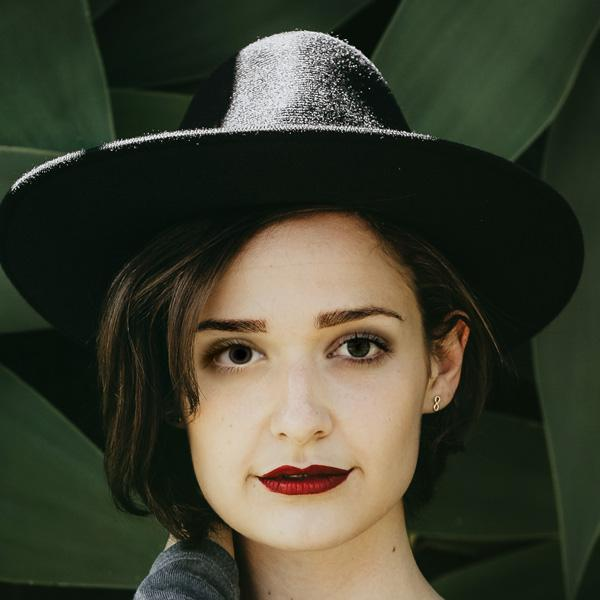Eyes: (315, 325, 401, 374), (192, 328, 270, 381)
